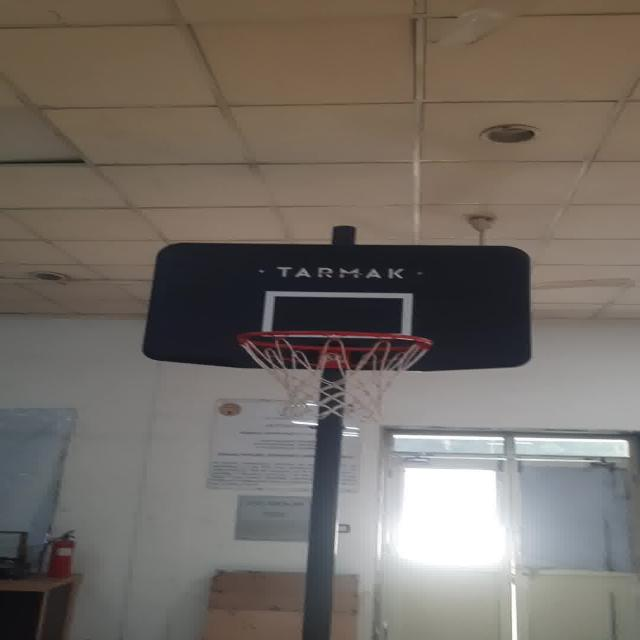objects: (222, 326, 446, 422), (261, 294, 413, 338)
